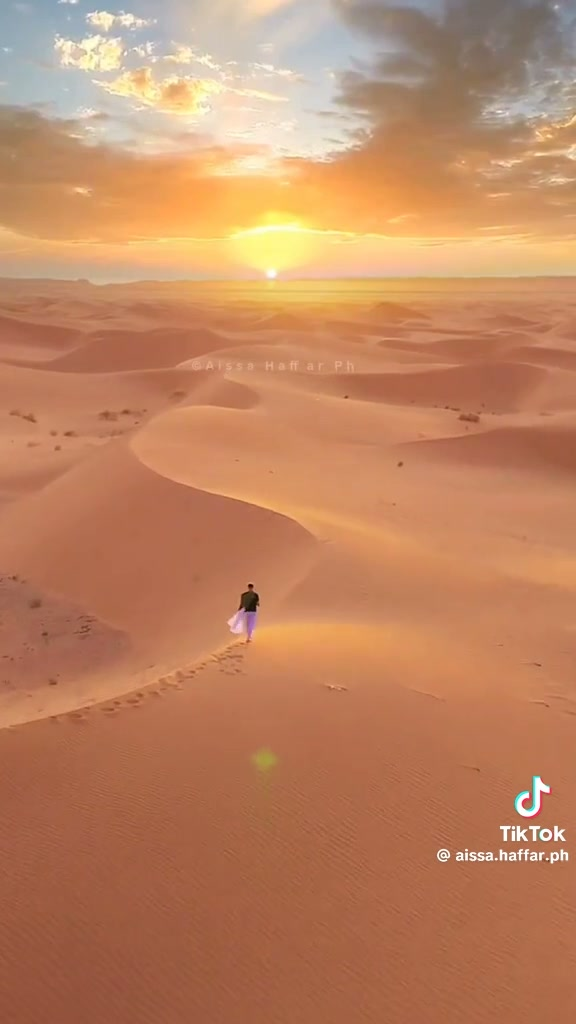human_footprint: (65, 649, 236, 729)
